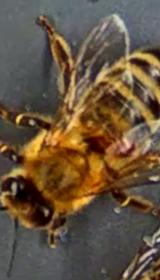varroa_mite: (113, 130, 142, 162)
